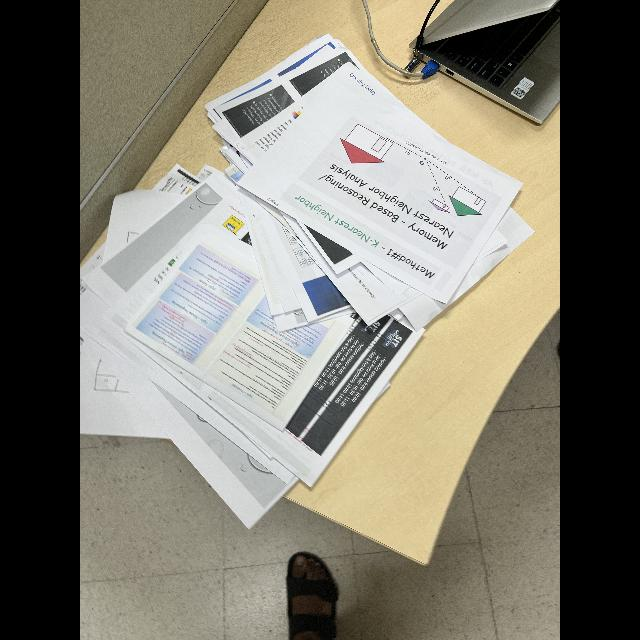reuseable_paper: (80, 28, 534, 522)
